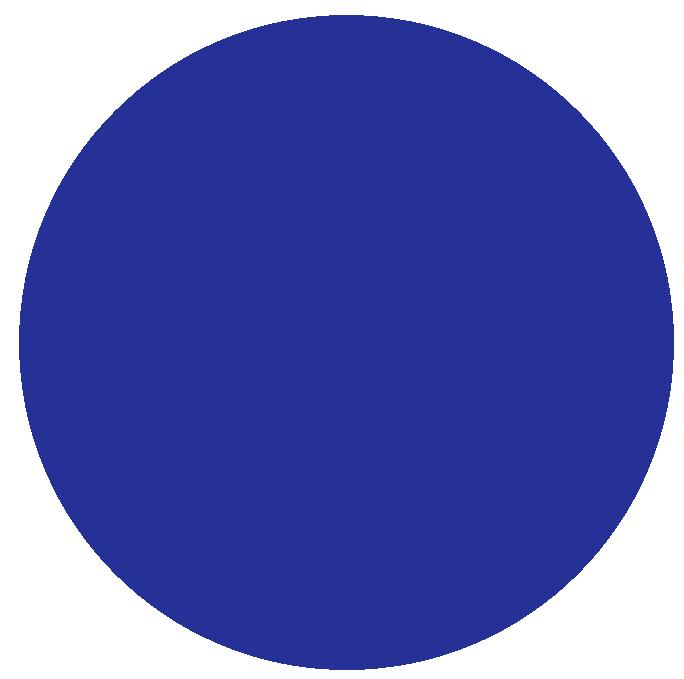blue_circle: (6, 0, 684, 679)
